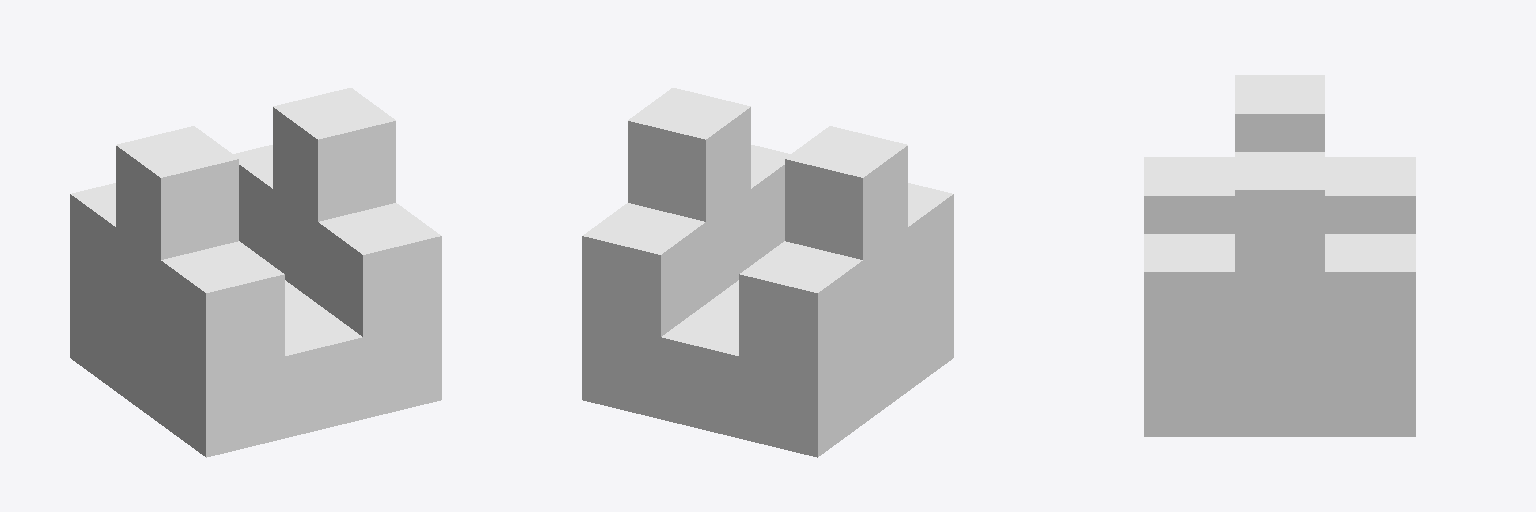
Rendered from lever-1.obj.
3 renders of one model, left to right at view 1: azimuth 30°, elevation 25°; view 2: azimuth 150°, elevation 25°; view 3: azimuth 270°, elevation 25°, orthographic.
Visible parts, largest first — view 1: object 1; view 2: object 1; view 3: object 1.
Boxes of the visible parts, x1,y1,x2,y2 form: object 1: [70, 88, 441, 457]; object 1: [582, 88, 953, 457]; object 1: [1144, 75, 1415, 436].
Bounding box in the file's own units: 0.3 × 0.3 × 0.3.